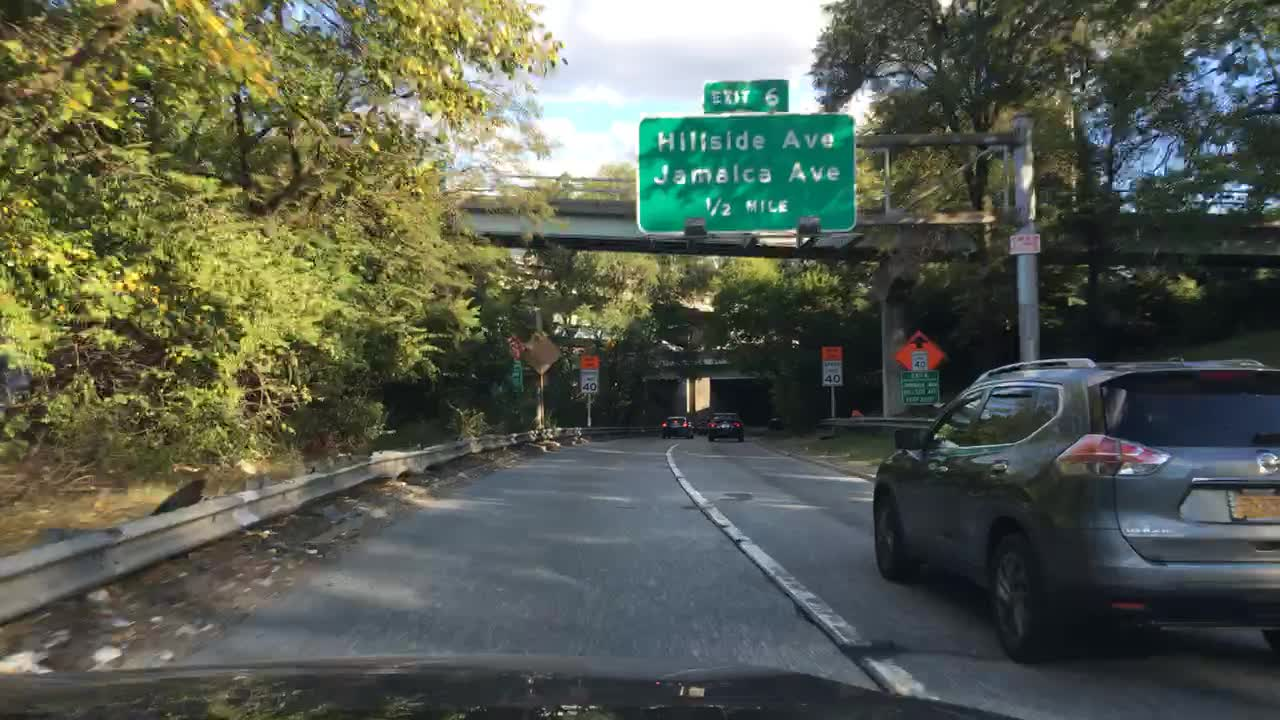car: (870, 354, 1278, 665), (706, 414, 745, 441), (660, 415, 694, 440), (695, 419, 709, 437)
traffic sign: (634, 109, 856, 235), (704, 79, 786, 115), (890, 329, 946, 373), (516, 330, 559, 376), (895, 374, 942, 410), (819, 345, 844, 389), (584, 354, 601, 396), (508, 358, 525, 393), (1010, 233, 1038, 253), (509, 337, 528, 359), (909, 349, 929, 369)
